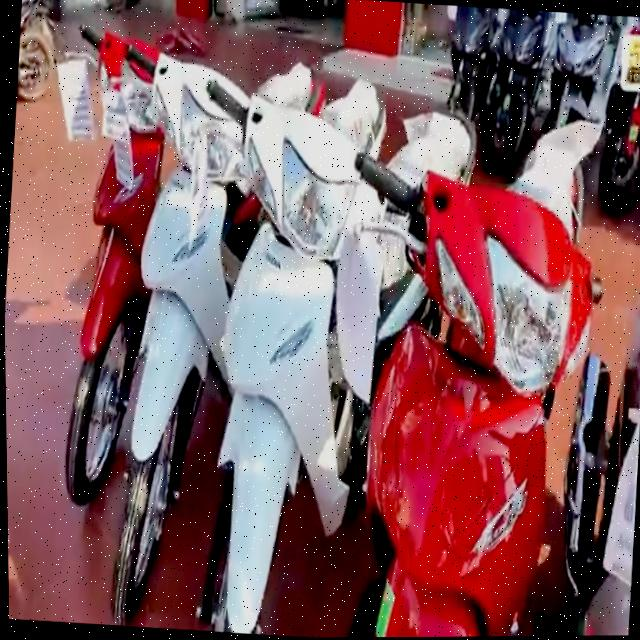motorcycle: (336, 161, 604, 638), (190, 81, 381, 639), (81, 46, 251, 614), (24, 0, 151, 504), (541, 10, 612, 151), (596, 14, 640, 210), (487, 9, 548, 144), (431, 5, 494, 124)
